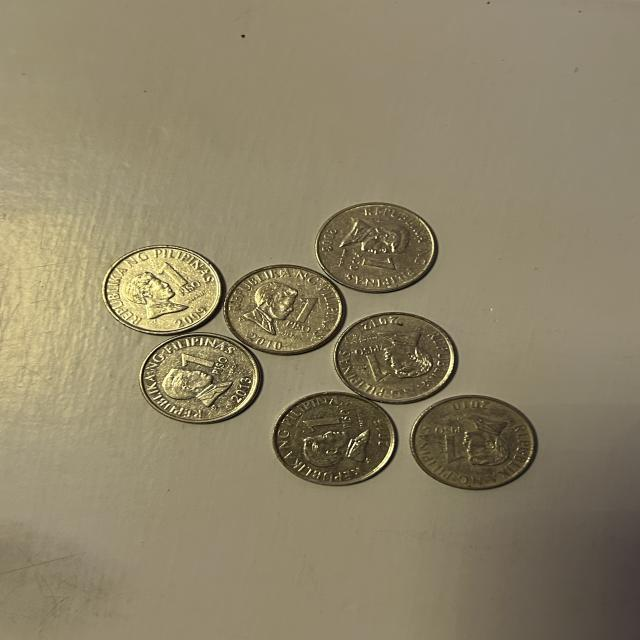1_Old_Front: (152, 260, 203, 301), (301, 409, 368, 439), (351, 338, 390, 386), (176, 347, 234, 379), (348, 246, 398, 281), (431, 424, 468, 470), (285, 295, 318, 339)
